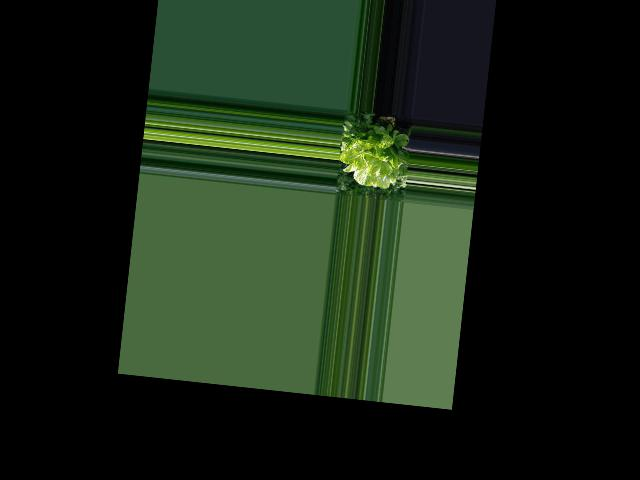lettuce: (343, 124, 410, 189)
